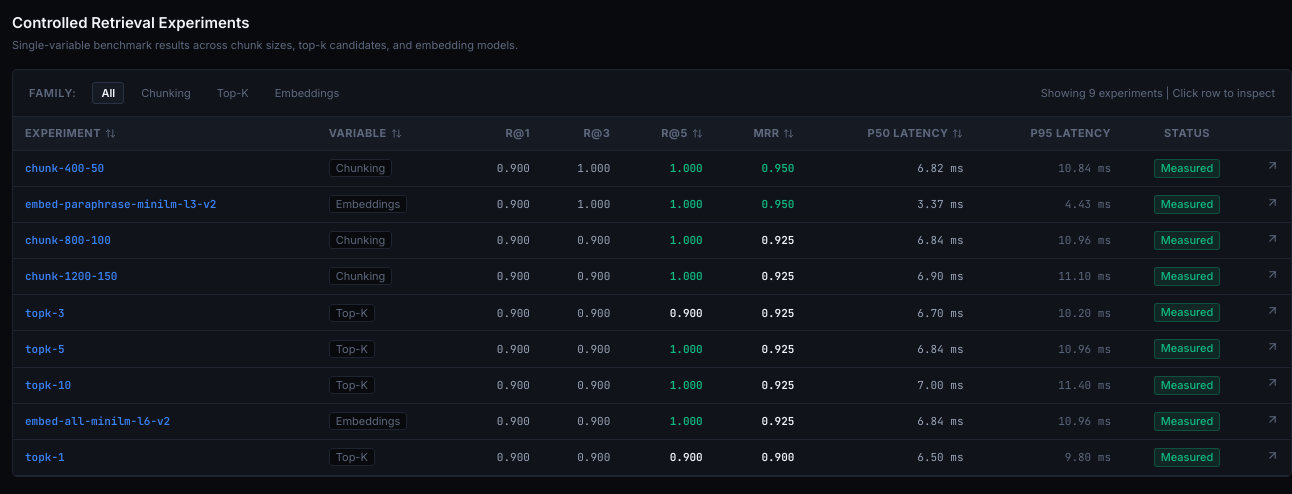
ExperimentsPage › filters experiments by family
Expected: the text "chunk-400-50" is shown, [25,161,104,175]
Click the button "Top-K". click: (233, 93)
box: [208,82,258,104]
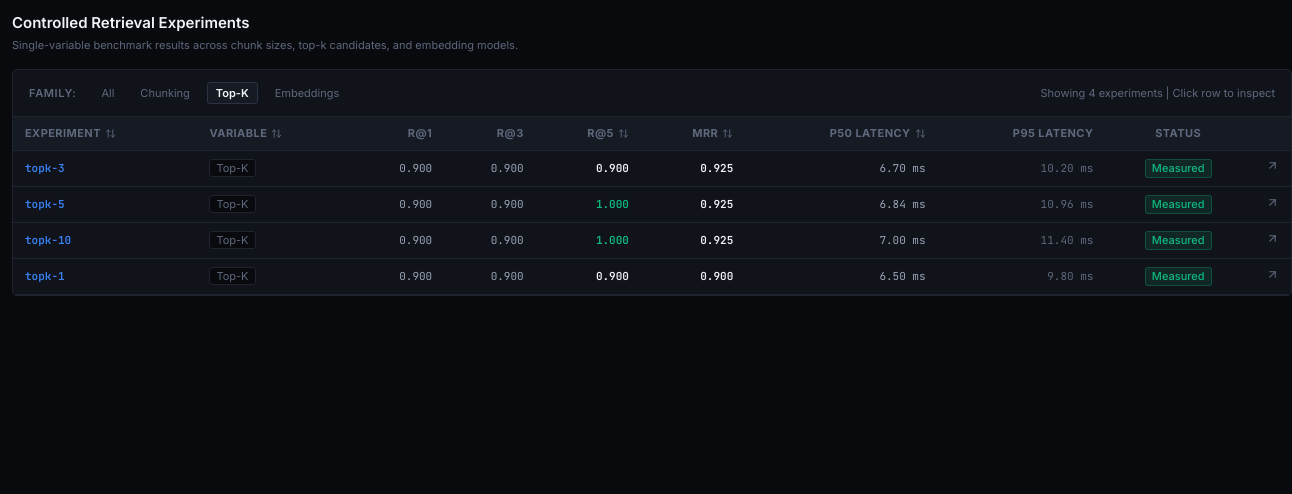
Expected: the text "topk-1" is shown, [25,269,65,283]
Expected: the text "chunk-400-50" is gone
